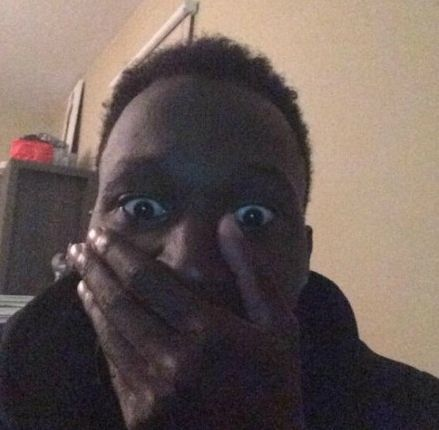face: (81, 98, 306, 403)
